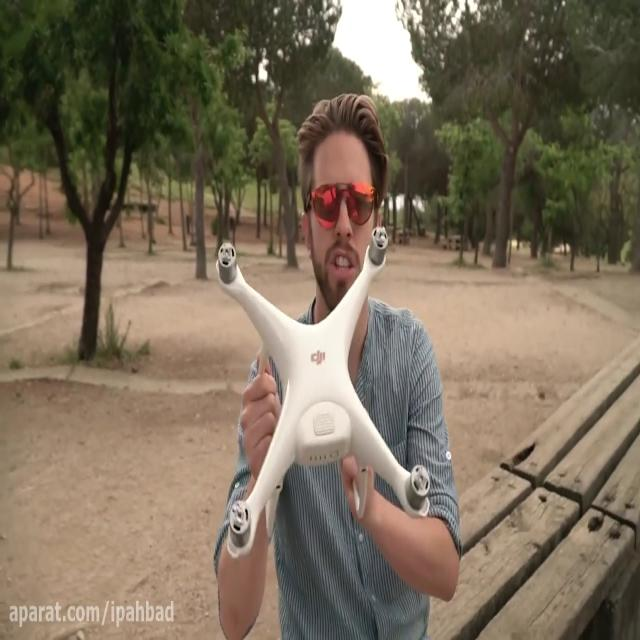drone: (214, 220, 432, 560)
